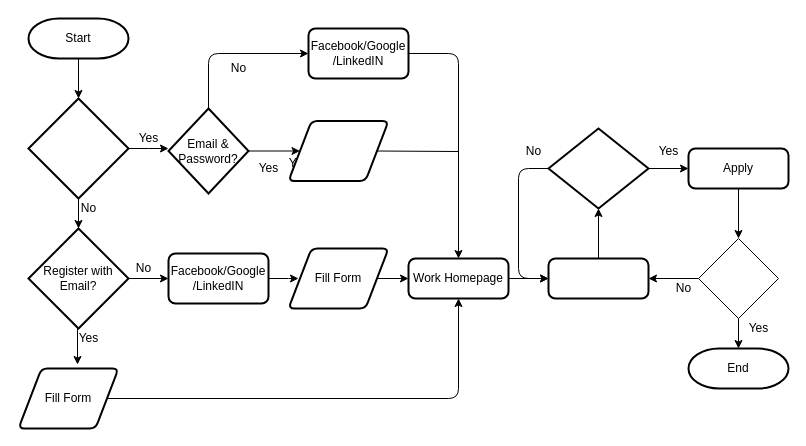
Some shapes in this 806 by 446 pixel diagram are drawn without their labels. Each missing label, with the box of its shape:
already registered?: (27, 97, 129, 199)
Fill E-Mail & Password: (287, 120, 389, 182)
Interested?: (547, 127, 649, 209)
Satisfied?: (698, 238, 778, 318)
View Job: (547, 257, 649, 299)
